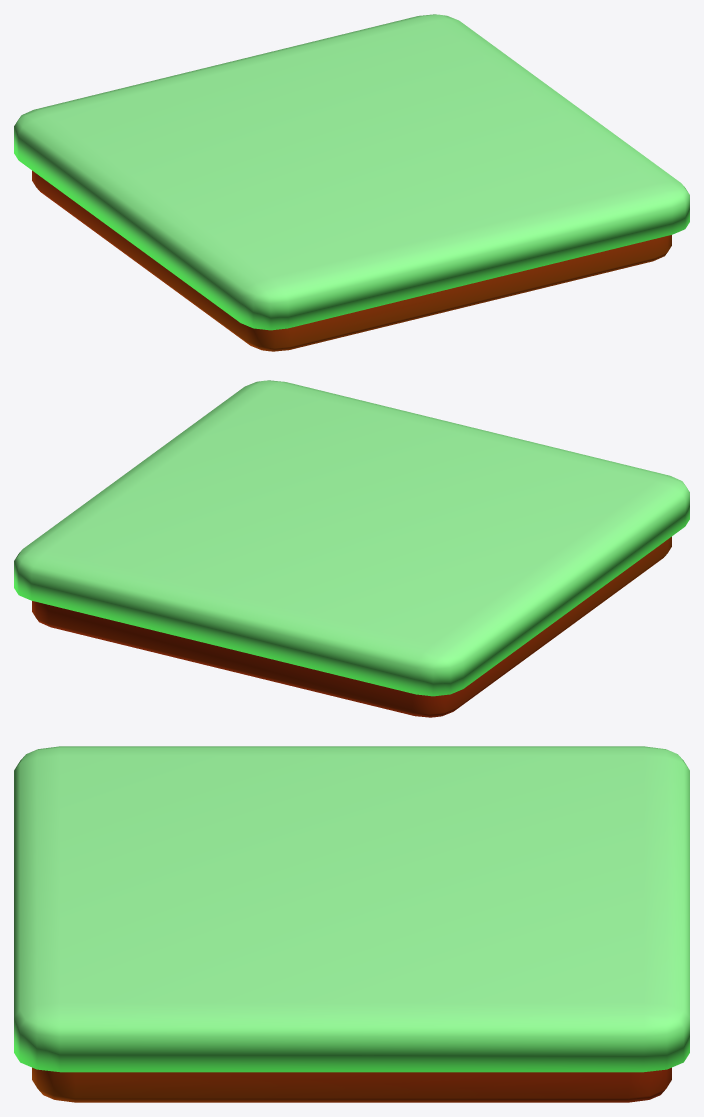
The model's file is trap_platfrombiggreen.glb.
3 views of the same model, one above another, from view 1: azimuth 30°, elevation 25°; view 2: azimuth 150°, elevation 25°; view 3: azimuth 270°, elevation 25° (orthographic). The views are drawn at different scales.
Visible parts, largest first — view 1: Cube.032_visual; view 2: Cube.032_visual; view 3: Cube.032_visual.
Boxes of the visible parts, <box> form: Cube.032_visual: <box>14,14,689,351</box>; Cube.032_visual: <box>14,380,689,717</box>; Cube.032_visual: <box>14,746,689,1102</box>.
Size of what is drawn, in the model's own units: 3.98 by 0.634 by 3.98.
1 material, 1 textured.
